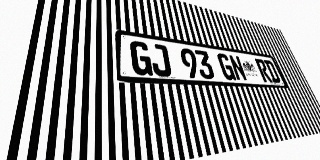3: (194, 50, 215, 79)
9: (179, 47, 201, 78)
D: (263, 60, 281, 83)
G: (130, 40, 153, 76), (216, 53, 237, 80)
J: (149, 43, 172, 77)
N: (228, 54, 248, 81)
R: (254, 58, 273, 82)
